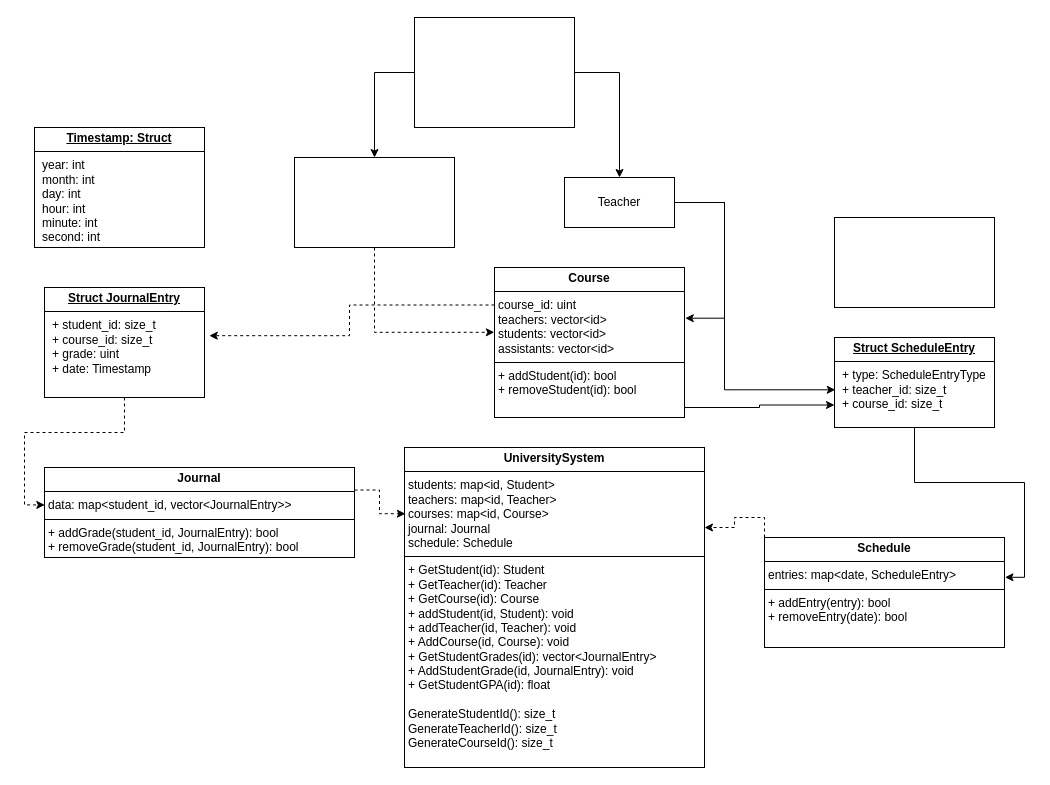
Image size: 1050x785. Some labels were removed from this diagram. The shapes that lost their labels are listed below. From the top down, each one's centre as x and y in pixels, then its label:
At [494,72]: "User id: size_t name: stirng + GetId(): size_t + GetName(): string".
At [374,202]: "Student group: string + GetGroup(): string".
At [914,262]: "ScheduleEntryType: enum Lecture Seminar Practice".
